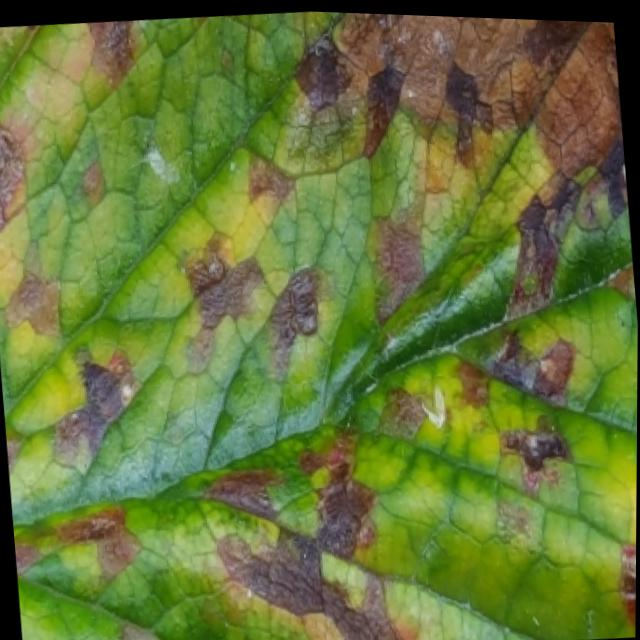Angular Leafspot: (0, 9, 638, 640)
